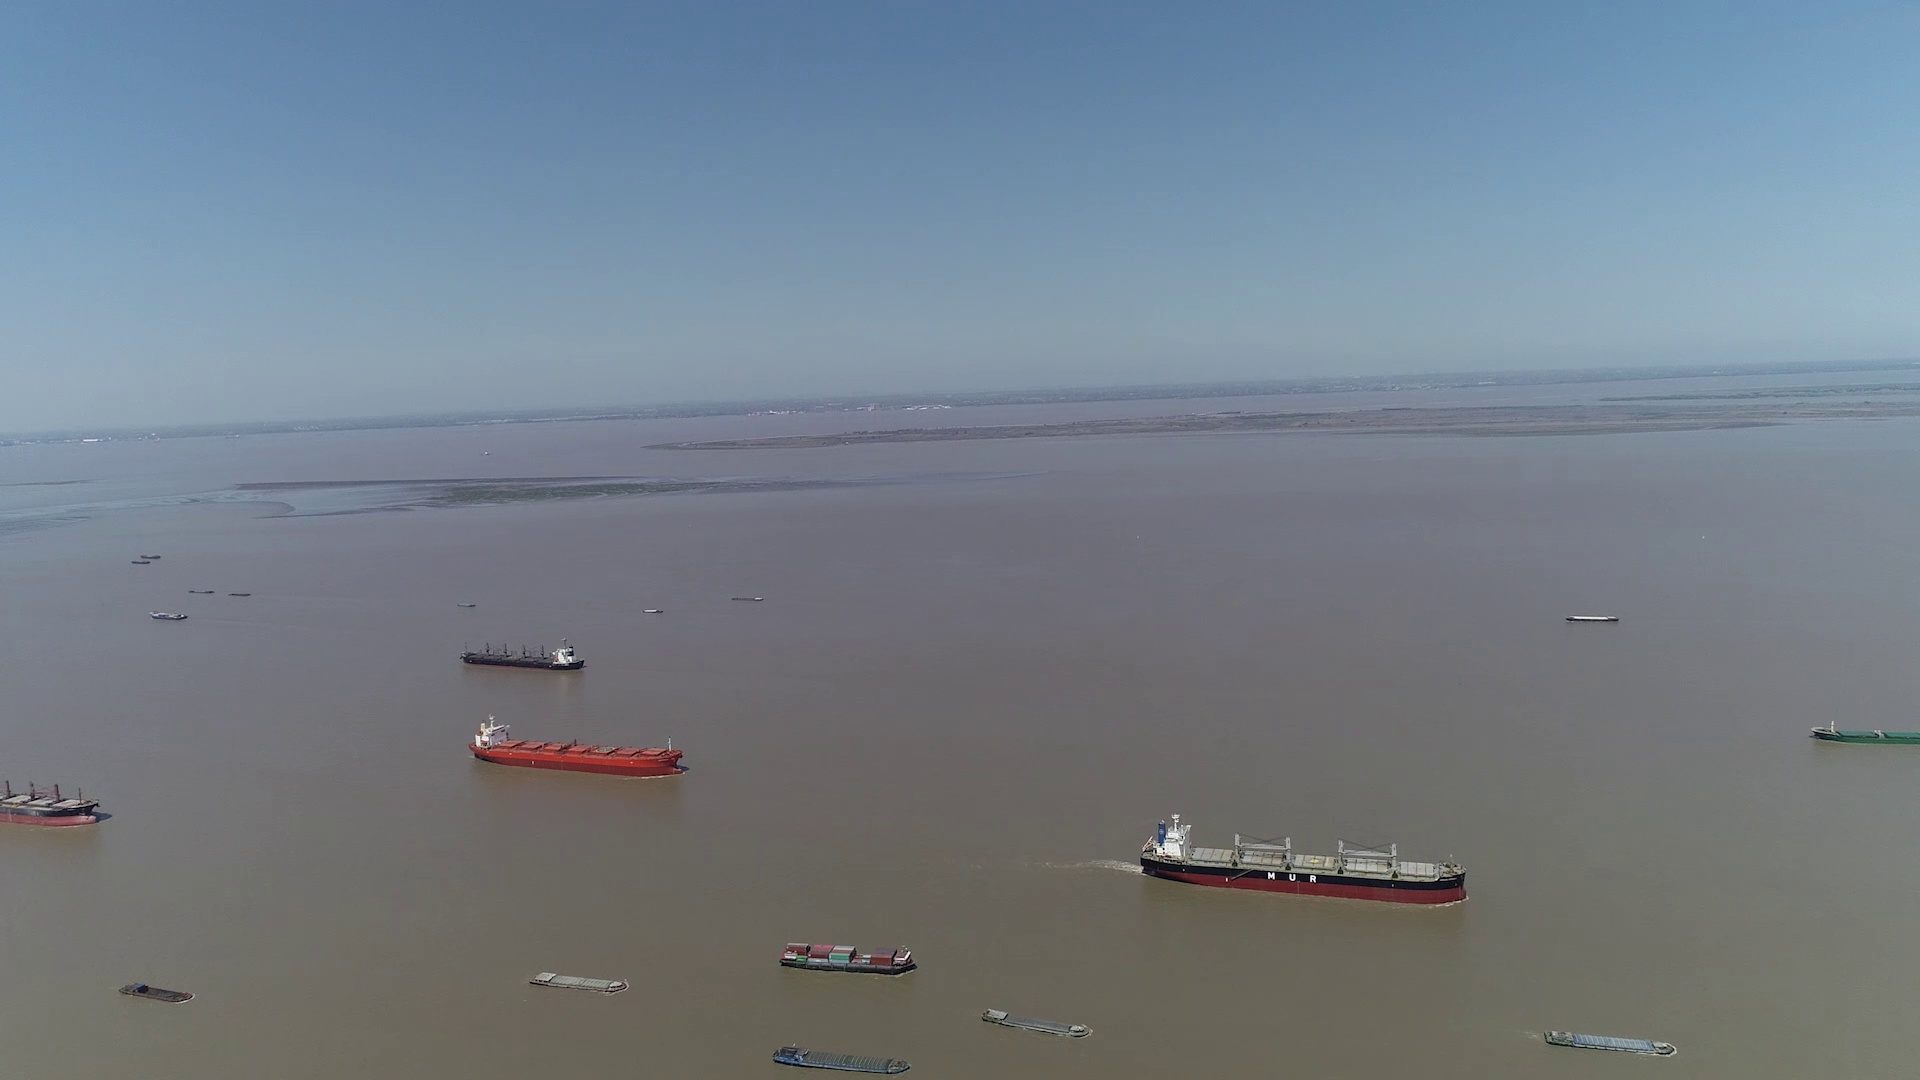ship: (1139, 814, 1468, 903), (469, 715, 682, 778), (0, 760, 108, 827), (781, 942, 916, 975), (774, 1044, 909, 1073), (459, 640, 584, 670), (1543, 1030, 1680, 1058), (982, 1007, 1091, 1038), (527, 971, 630, 994), (1812, 723, 1920, 745), (117, 982, 195, 1004), (1564, 613, 1619, 622), (152, 609, 189, 620)
